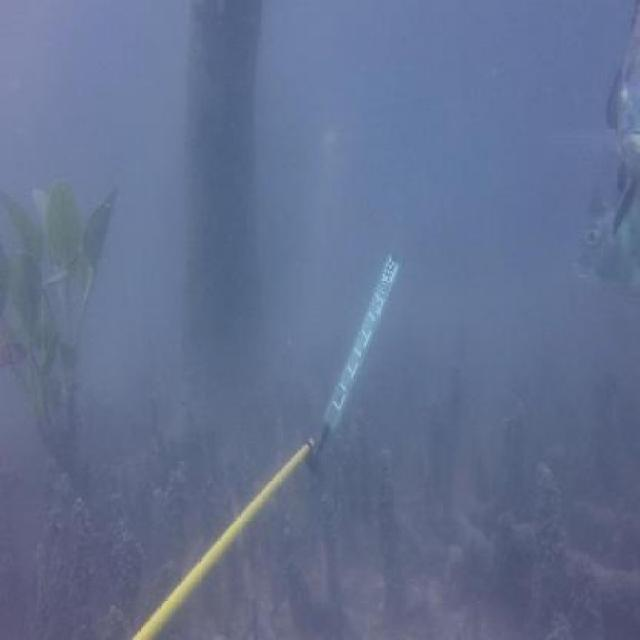acanthopagrus_palmaris: (569, 172, 640, 299), (600, 1, 640, 168)
